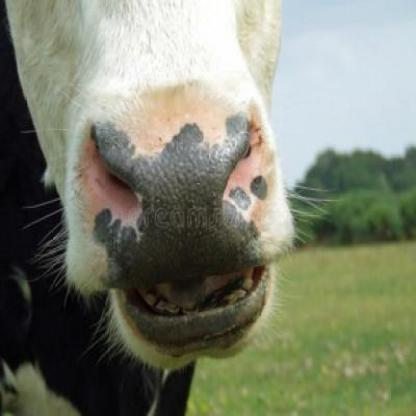lower: (180, 336, 221, 349)
mouth: (75, 89, 296, 370)
upper: (167, 186, 196, 221)
